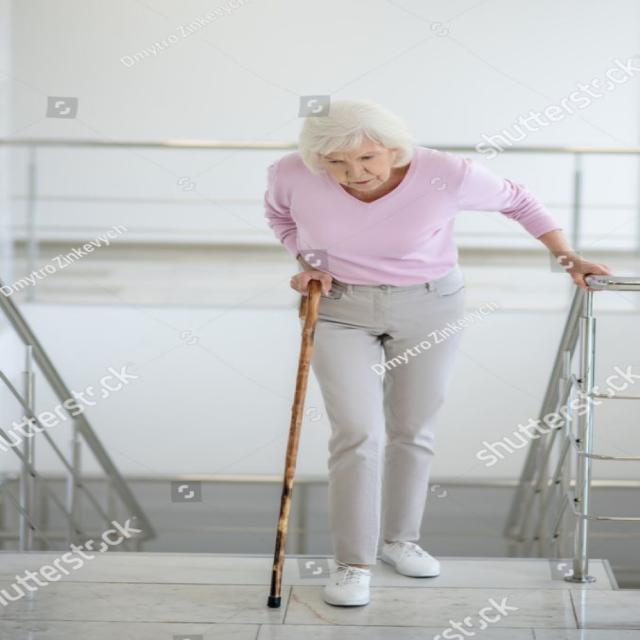idoso em pe: (251, 105, 521, 618)
